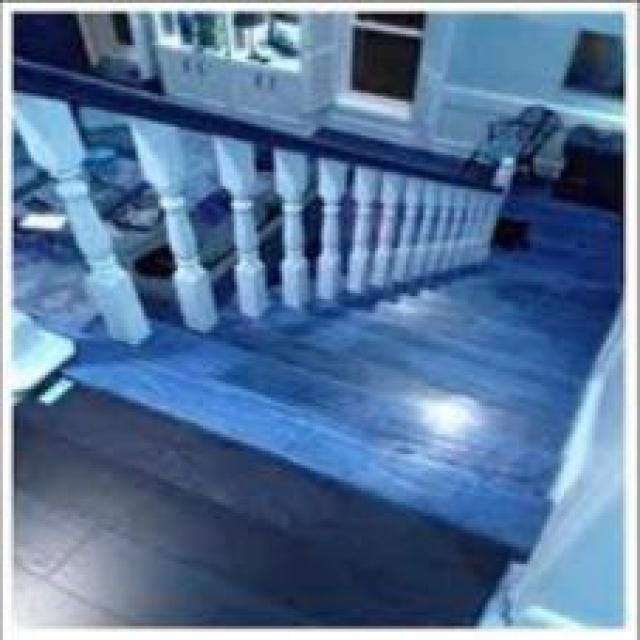downstair: (72, 252, 543, 537)
